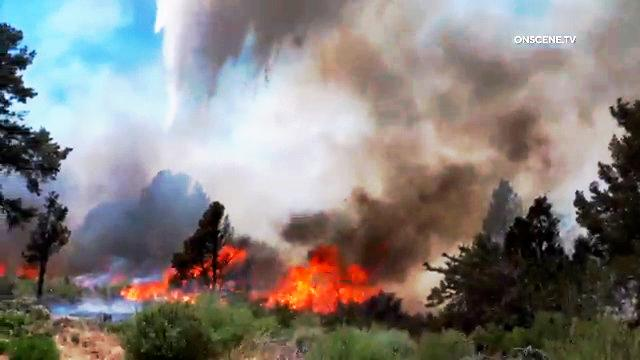fire: (276, 247, 371, 322), (115, 268, 179, 314)
smoke: (289, 0, 472, 257), (152, 0, 362, 114), (55, 106, 214, 188), (476, 47, 582, 154)
